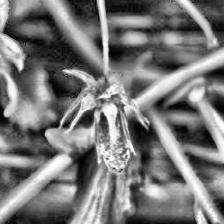Gray Mold: (59, 59, 151, 175)
